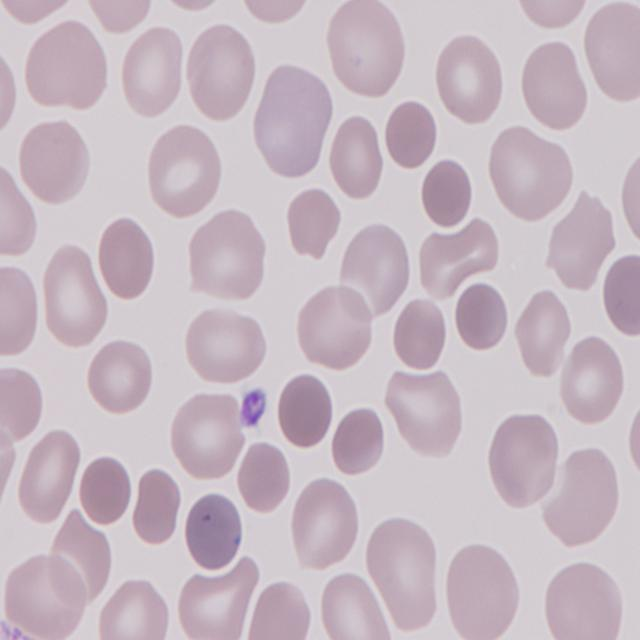Platelets: (240, 390, 268, 431)
RBC: (252, 63, 334, 181), (364, 515, 440, 631), (487, 124, 576, 223), (324, 1, 406, 103), (24, 17, 110, 113), (487, 410, 566, 510), (144, 122, 224, 220), (445, 541, 524, 640), (188, 206, 269, 302), (288, 475, 364, 577), (295, 283, 376, 377), (186, 20, 259, 124), (2, 552, 88, 640), (171, 388, 247, 486), (18, 111, 96, 206), (184, 302, 270, 388), (386, 368, 466, 457), (42, 248, 111, 349), (116, 22, 188, 118), (518, 38, 590, 132), (435, 36, 508, 128), (14, 432, 82, 530), (548, 197, 616, 294), (558, 337, 629, 429), (541, 562, 623, 640), (516, 286, 576, 380), (94, 214, 156, 302), (584, 5, 640, 100), (329, 112, 386, 202), (176, 573, 252, 640), (86, 341, 152, 418), (319, 573, 391, 640), (96, 579, 174, 640), (392, 294, 452, 371), (282, 186, 340, 261), (131, 467, 183, 549), (329, 406, 387, 477), (248, 578, 314, 640), (0, 260, 40, 358), (0, 163, 39, 261), (0, 363, 45, 442), (601, 248, 640, 333), (81, 0, 158, 36), (515, 0, 589, 31)
Spherocyte: (180, 488, 244, 570), (278, 370, 338, 452), (236, 439, 292, 519), (380, 96, 438, 172), (420, 154, 478, 230), (454, 282, 512, 352), (78, 456, 134, 528)
